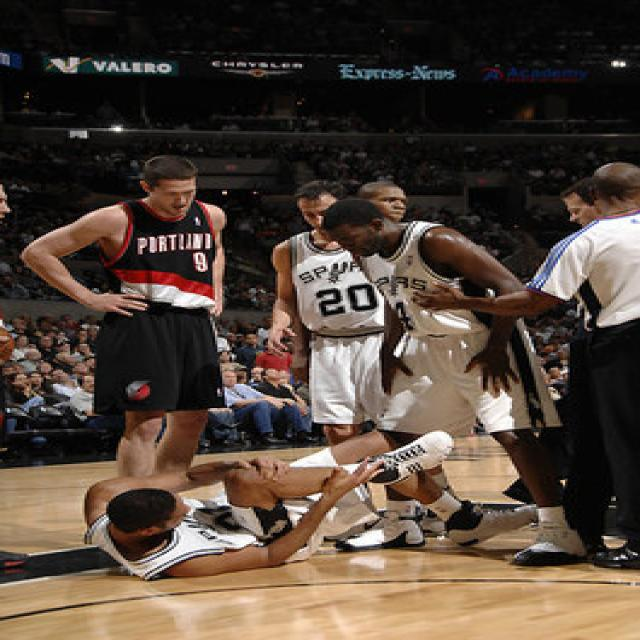10-: (0, 56, 638, 563)
down: (82, 435, 534, 579)
